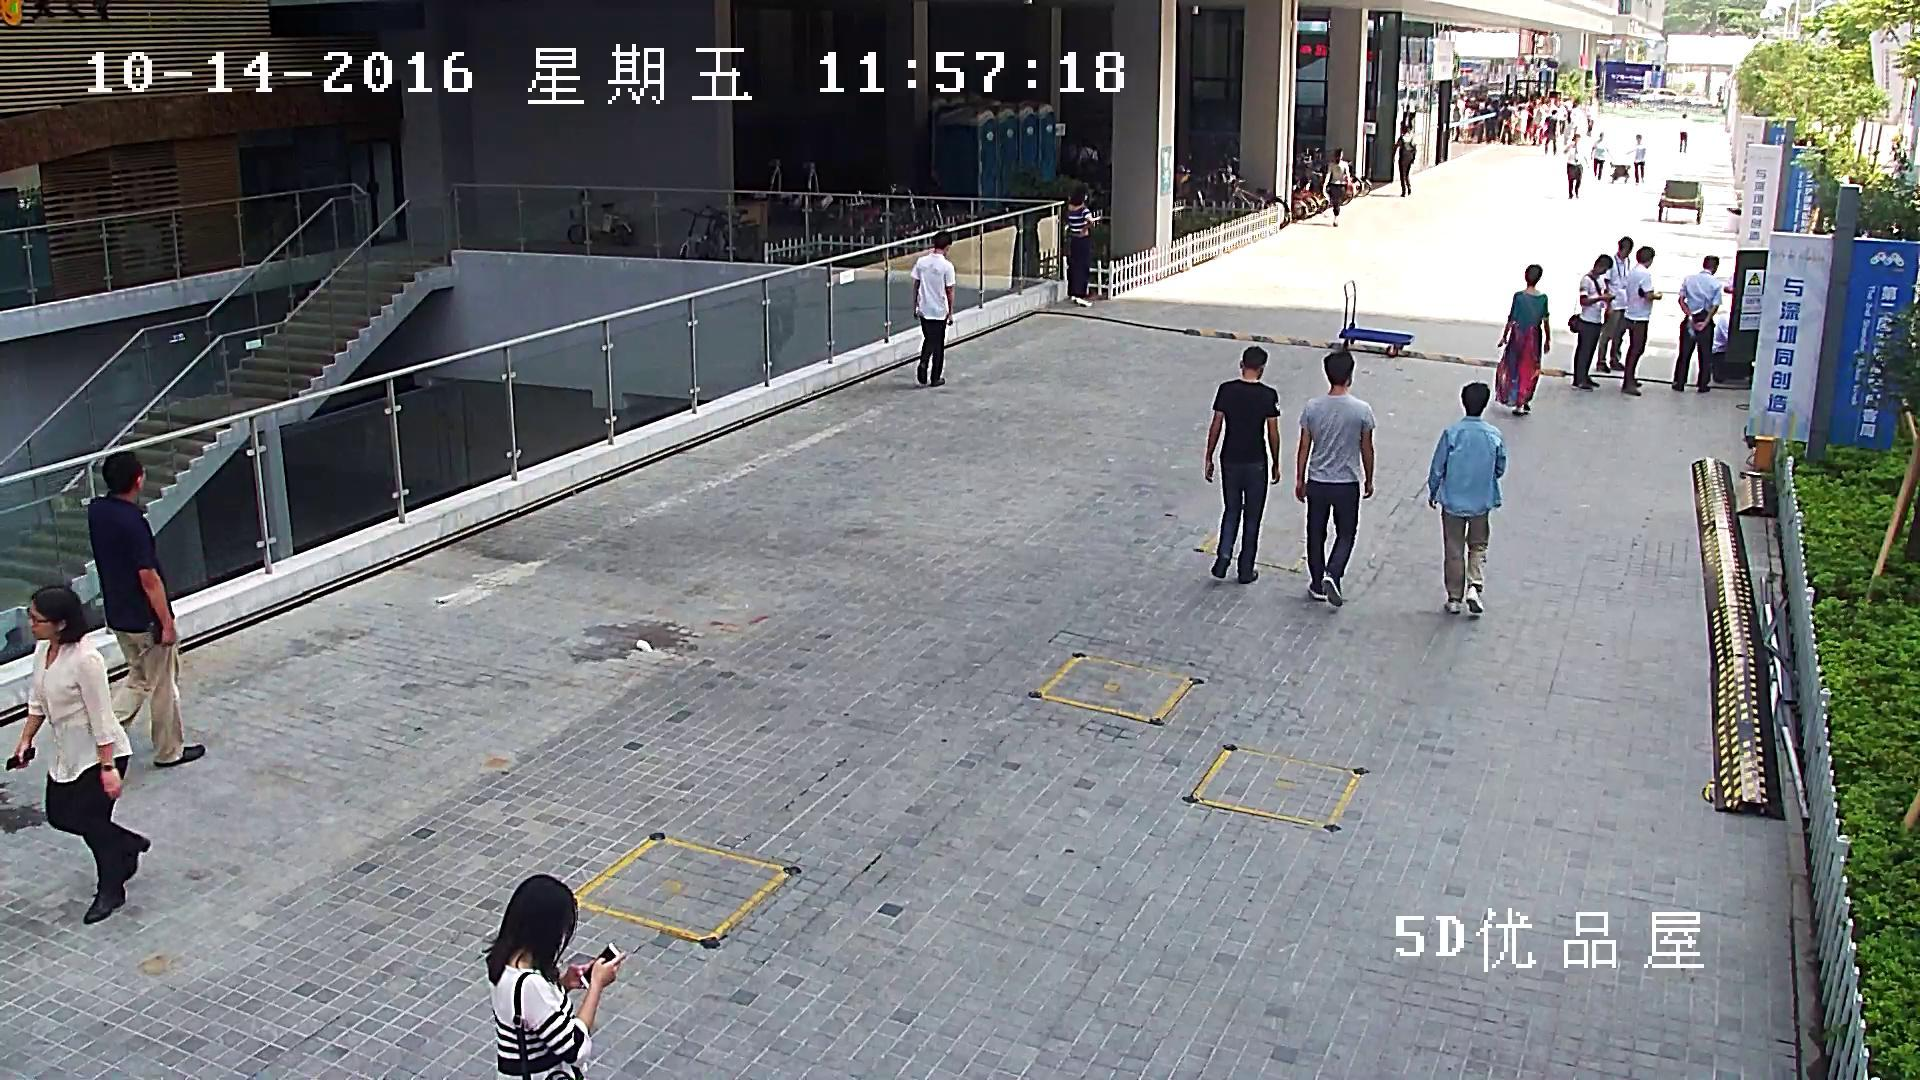person: (4, 584, 149, 925), (88, 449, 206, 769), (480, 874, 622, 1080), (1295, 350, 1374, 607), (1203, 346, 1281, 584), (1427, 380, 1505, 614), (1493, 264, 1550, 417), (1671, 255, 1723, 392), (910, 232, 955, 387), (1569, 254, 1613, 392), (1622, 246, 1660, 395), (1595, 237, 1633, 371), (765, 274, 801, 375), (1065, 184, 1093, 308), (1322, 148, 1350, 227), (1395, 121, 1416, 197), (1564, 133, 1588, 198), (1628, 133, 1647, 185), (1589, 132, 1608, 180), (1543, 109, 1557, 155), (1514, 105, 1526, 146), (1533, 102, 1544, 145), (1677, 113, 1688, 154), (1568, 102, 1580, 137), (1501, 109, 1512, 143), (1585, 101, 1595, 135), (1526, 99, 1534, 138), (1558, 102, 1567, 134), (1545, 99, 1553, 120)
